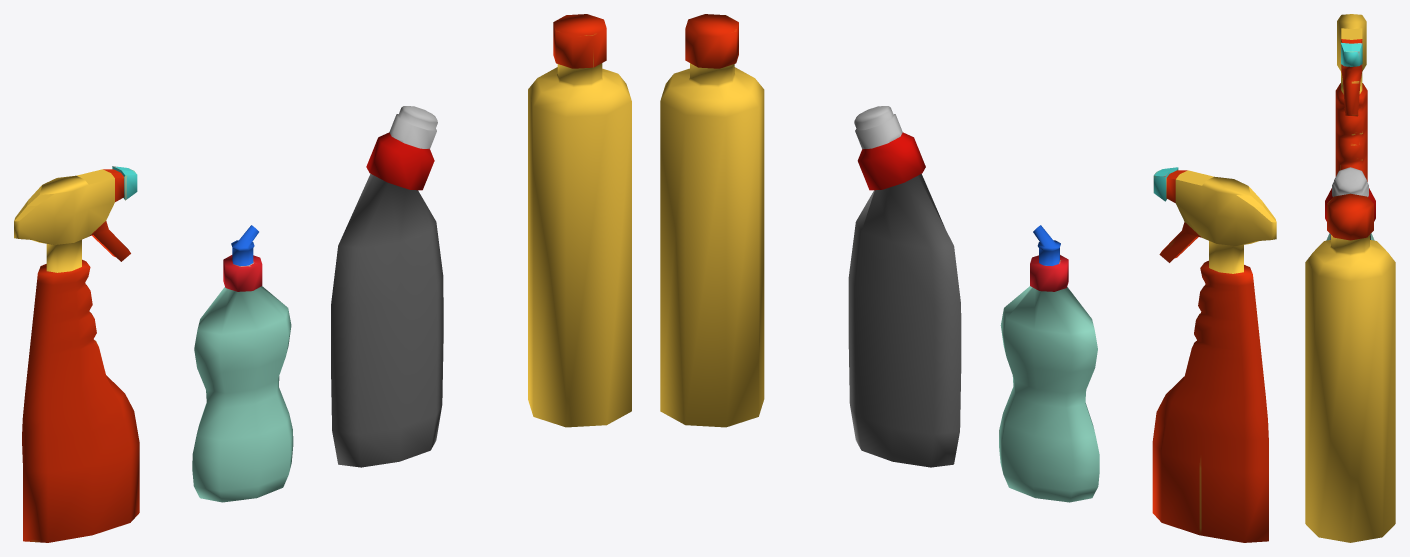
The model's file is putzmittel.fbx.
3 renders of one model, left to right at view 1: azimuth 30°, elevation 25°; view 2: azimuth 150°, elevation 25°; view 3: azimuth 270°, elevation 25°, orthographic. The views are drawn at different scales.
Parts seen in each view (by area): view 1: desinfektionsmittel, wcente, glasreiniger, handreiniger; view 2: desinfektionsmittel, wcente, glasreiniger, handreiniger; view 3: desinfektionsmittel, glasreiniger, wcente.
Boxes of the visible parts, left/top/right/bottom form: desinfektionsmittel: left=528, top=14, right=631, bottom=427; wcente: left=331, top=106, right=443, bottom=467; glasreiniger: left=14, top=166, right=139, bottom=542; handreiniger: left=192, top=225, right=293, bottom=502; desinfektionsmittel: left=660, top=14, right=764, bottom=427; wcente: left=848, top=106, right=961, bottom=467; glasreiniger: left=1152, top=167, right=1276, bottom=542; handreiniger: left=999, top=225, right=1099, bottom=502; desinfektionsmittel: left=1305, top=193, right=1395, bottom=542; glasreiniger: left=1335, top=14, right=1367, bottom=181; wcente: left=1325, top=167, right=1375, bottom=239.
Size of the model in its own units: 187 by 111 by 28.48.
Materials: 1 (1 with a texture image).
